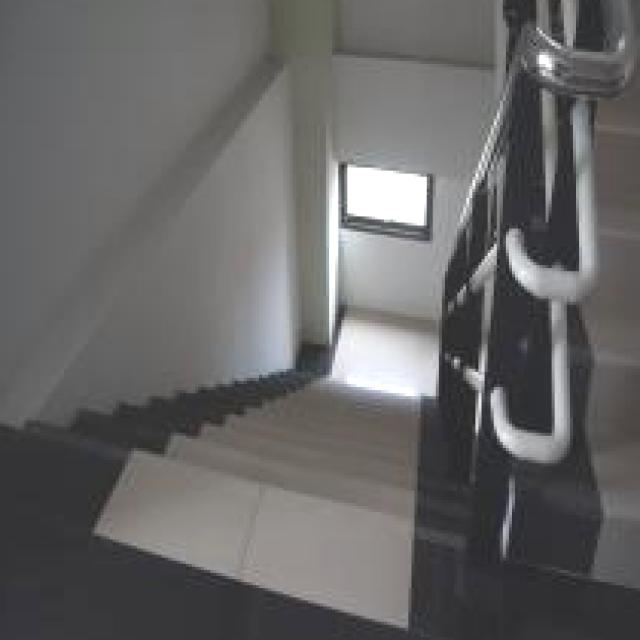downstair: (147, 407, 437, 599)
